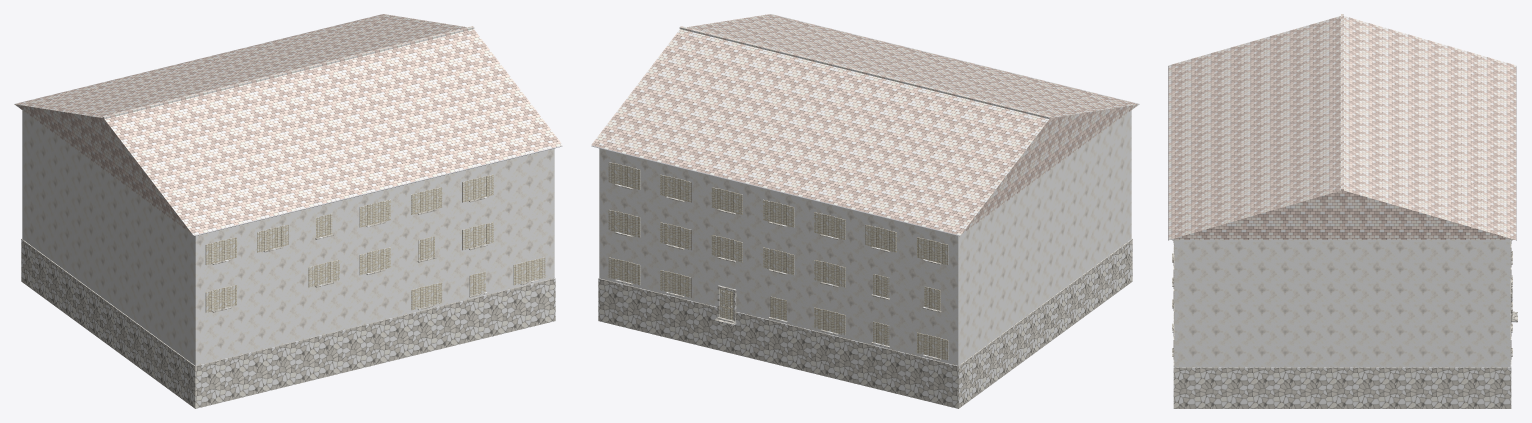
3 renders of one model, left to right at view 1: azimuth 30°, elevation 25°; view 2: azimuth 150°, elevation 25°; view 3: azimuth 270°, elevation 25°, orthographic. The views are drawn at different scales.
Parts seen in each view (by area): view 1: b1082825666; view 2: b1082825666; view 3: b1082825666.
Part boxes in pixels (<box>): b1082825666: <box>14,14,562,408</box>; b1082825666: <box>591,14,1139,408</box>; b1082825666: <box>1168,14,1517,408</box>.
Bounding box in the file's own units: 25.18 × 14.92 × 21.28.
15 materials, 15 textured.
